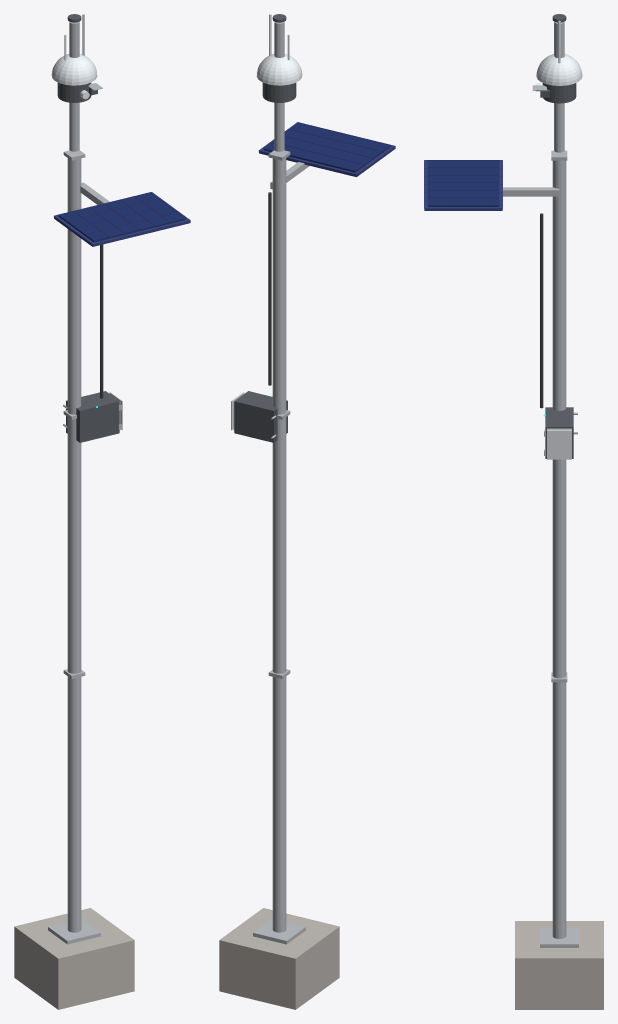
File: watchtower.glb
The picture shows the model from 3 angles, left to right: view 1: azimuth 30°, elevation 25°; view 2: azimuth 150°, elevation 25°; view 3: azimuth 270°, elevation 25°; orthographic projection.
Parts seen in each view (by area): view 1: Concrete_Anchor, Mast_Section_1, Mast_Section_2, Solar_Cell_Grid, Mast_Section_3, AI_Enclosure, PTZ_Dome, Mast_Top_Section, Solar_Panel_Mount, Base_Flange, Cable_Conduit, PTZ_Camera_Pod; view 2: Concrete_Anchor, Mast_Section_1, Mast_Section_3, Mast_Section_2, Solar_Cell_Grid, AI_Enclosure, PTZ_Dome, Mast_Top_Section, Cable_Conduit, Solar_Panel_Mount, Base_Flange, PTZ_Camera_Pod; view 3: Concrete_Anchor, Mast_Section_1, Mast_Section_3, Solar_Cell_Grid, Mast_Section_2, PTZ_Dome, Mast_Top_Section, Enclosure_Fins, Cable_Conduit, AI_Enclosure, Solar_Panel_Mount, Base_Flange (+2 smaller).
Part boxes in pixels (x1,y1,x2,y2): Concrete_Anchor: (14, 908, 134, 1009); Mast_Section_1: (67, 676, 81, 932); Mast_Section_2: (67, 417, 81, 673); Solar_Cell_Grid: (58, 192, 185, 242); Mast_Section_3: (67, 158, 81, 414); AI_Enclosure: (66, 391, 119, 442); PTZ_Dome: (51, 54, 97, 85); Mast_Top_Section: (69, 21, 79, 151); Solar_Panel_Mount: (54, 192, 190, 246); Base_Flange: (48, 918, 100, 944); Cable_Conduit: (100, 244, 103, 398); PTZ_Camera_Pod: (57, 82, 91, 102); Concrete_Anchor: (219, 908, 339, 1009); Mast_Section_1: (272, 676, 286, 932); Mast_Section_3: (272, 158, 286, 414); Mast_Section_2: (272, 417, 286, 673); Solar_Cell_Grid: (263, 122, 390, 172); AI_Enclosure: (234, 391, 287, 442); PTZ_Dome: (256, 54, 302, 85); Mast_Top_Section: (274, 21, 284, 151); Cable_Conduit: (268, 192, 271, 385); Solar_Panel_Mount: (258, 122, 395, 176); Base_Flange: (253, 918, 305, 944); PTZ_Camera_Pod: (262, 82, 296, 102); Concrete_Anchor: (515, 921, 603, 1009); Mast_Section_1: (552, 682, 566, 938); Mast_Section_3: (552, 160, 566, 410); Solar_Cell_Grid: (427, 160, 499, 206); Mast_Section_2: (552, 459, 566, 678); PTZ_Dome: (536, 54, 582, 85); Mast_Top_Section: (554, 21, 564, 152); Enclosure_Fins: (547, 428, 571, 459); Cable_Conduit: (540, 213, 543, 408); AI_Enclosure: (545, 407, 573, 458); Solar_Panel_Mount: (424, 160, 502, 210); Base_Flange: (540, 928, 578, 947).
Size of the model in its own units: 0.643 by 6.05 by 1.01.
